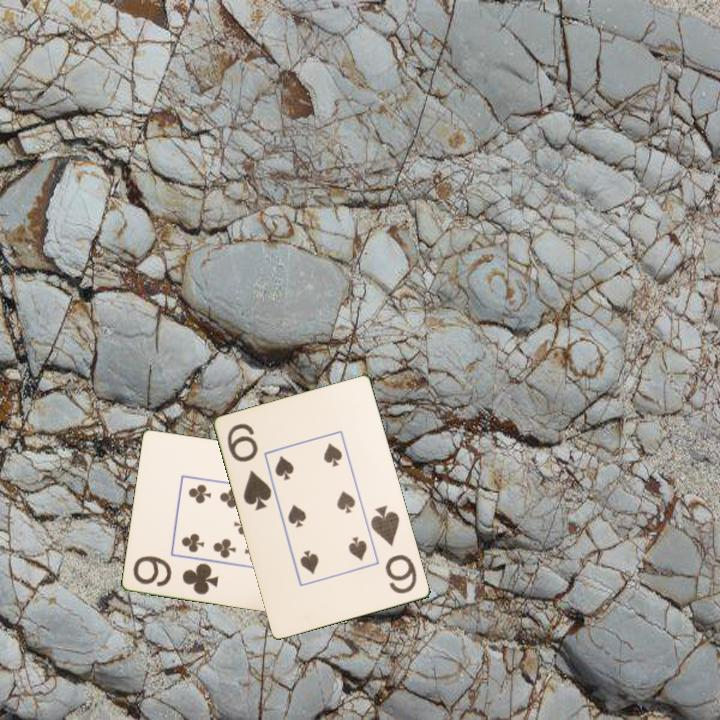6s: (367, 502, 420, 597), (224, 420, 275, 514)
9c: (130, 552, 222, 598)
